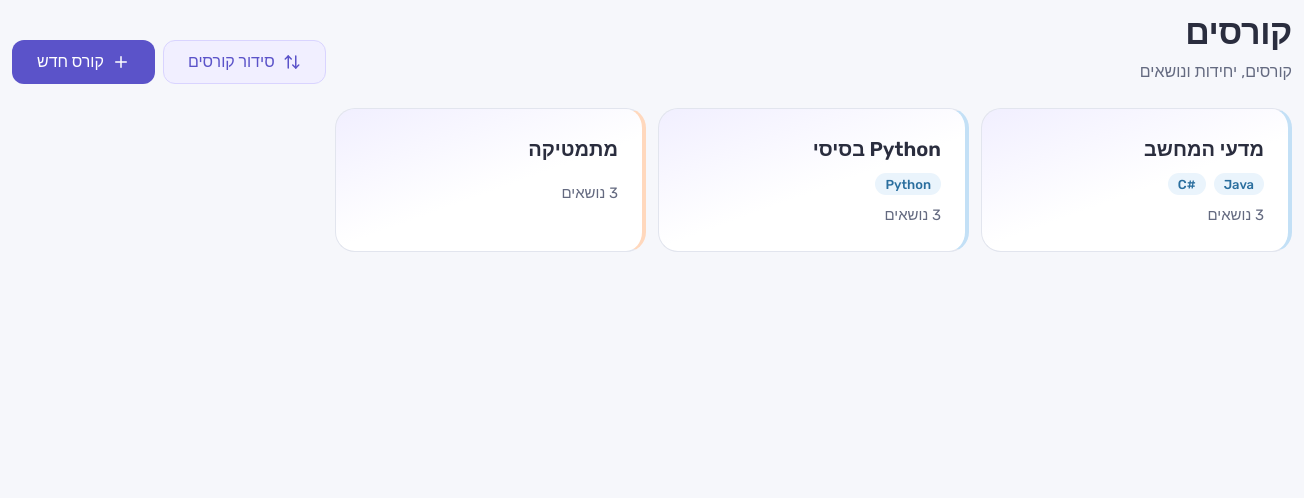
Test: CoursesPage — manual ordering mode › is an explicit mode: normal view has links, ordering mode has none (no accidental navigation)
Expected: the link "מדעי המחשב Java  C# 3 נושאים" is shown, [981, 108, 1292, 252]
Step 1. Click the button "סידור קורסים" → (244, 62), box [163, 40, 326, 84]
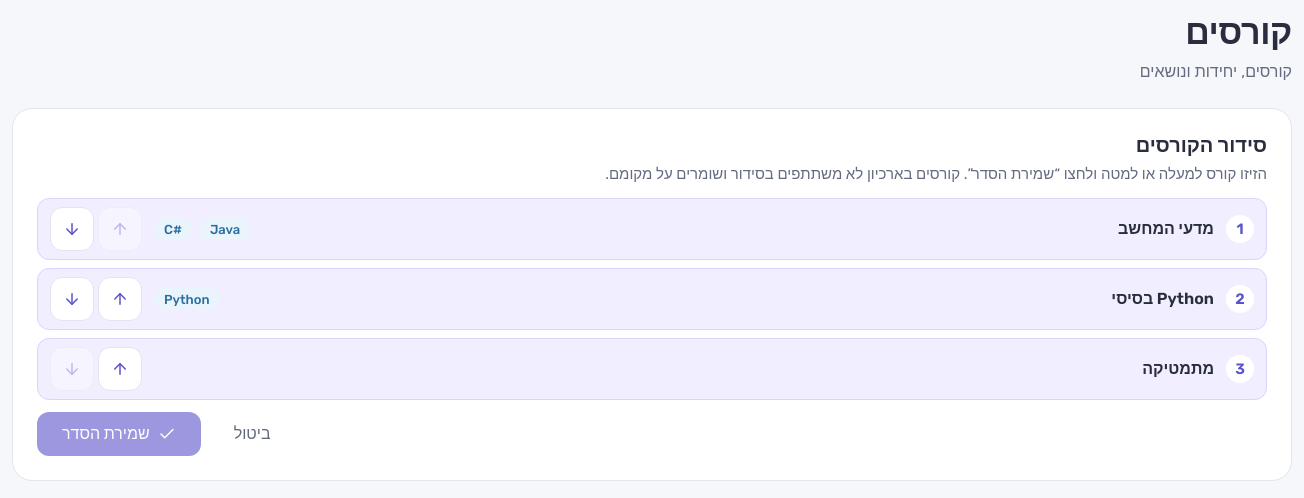
Now the heading "סידור הקורסים" is shown, box [1136, 133, 1267, 157]
